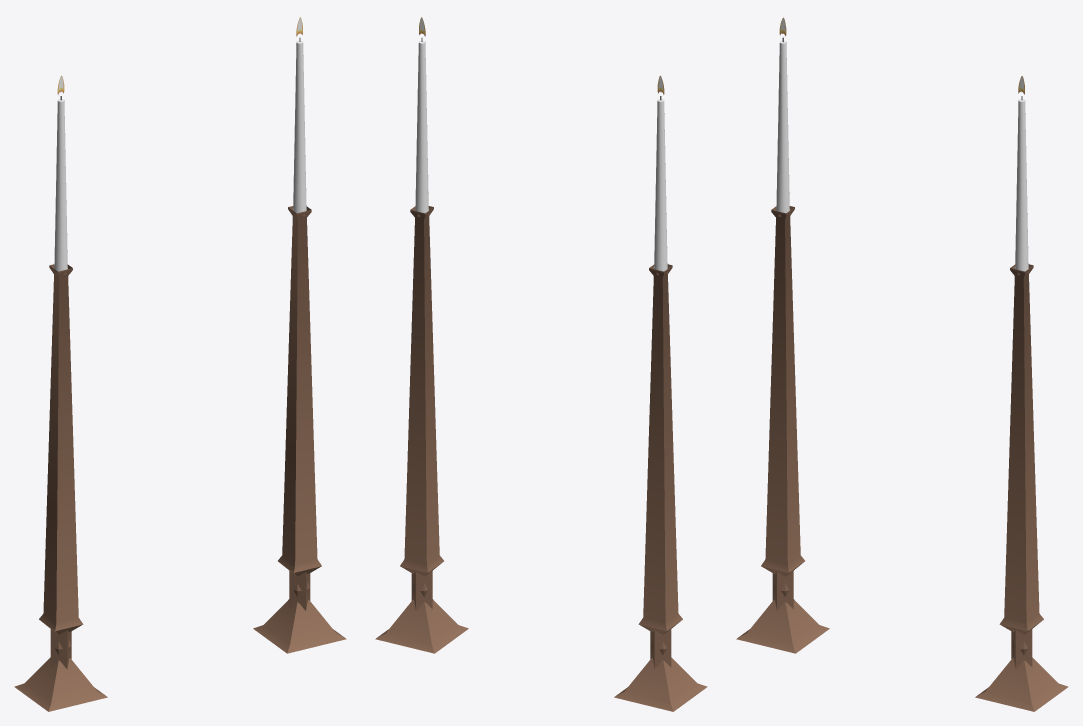
File: candlesticks_anim_final.c4d.fbx
3 views of the same model, side by side, from view 1: azimuth 30°, elevation 25°; view 2: azimuth 150°, elevation 25°; view 3: azimuth 330°, elevation 25° (orthographic).
Visible parts, largest first — view 1: Stem_2, Stem, Base_2, Base, Candle_4, Candle, Link, Link_4; view 2: Stem_2, Stem, Base_2, Base, Candle_4, Candle, Link, Link_4; view 3: Stem, Stem_2, Base, Base_2, Candle, Candle_4, Link_4, Link.
Boxes of the visible parts, left/top/right/bottom form: Stem_2: left=39, top=264, right=83, bottom=634; Stem: left=278, top=206, right=321, bottom=576; Base_2: left=14, top=657, right=107, bottom=711; Base: left=253, top=599, right=346, bottom=653; Candle_4: left=54, top=99, right=67, bottom=271; Candle: left=293, top=40, right=306, bottom=213; Link: left=289, top=570, right=310, bottom=610; Link_4: left=50, top=629, right=71, bottom=669; Stem_2: left=638, top=264, right=682, bottom=634; Stem: left=400, top=206, right=443, bottom=576; Base_2: left=614, top=657, right=707, bottom=711; Base: left=375, top=599, right=468, bottom=653; Candle_4: left=654, top=99, right=667, bottom=271; Candle: left=415, top=40, right=428, bottom=213; Link: left=411, top=570, right=432, bottom=610; Link_4: left=650, top=629, right=671, bottom=669; Stem: left=999, top=264, right=1043, bottom=634; Stem_2: left=761, top=206, right=804, bottom=576; Base: left=975, top=657, right=1068, bottom=711; Base_2: left=736, top=599, right=829, bottom=653; Candle: left=1015, top=98, right=1028, bottom=271; Candle_4: left=776, top=40, right=789, bottom=213; Link_4: left=772, top=570, right=793, bottom=610; Link: left=1011, top=629, right=1032, bottom=669.
Size of the model in its own units: 1000 by 1979 by 200.
Materials: 4 (1 with a texture image).
